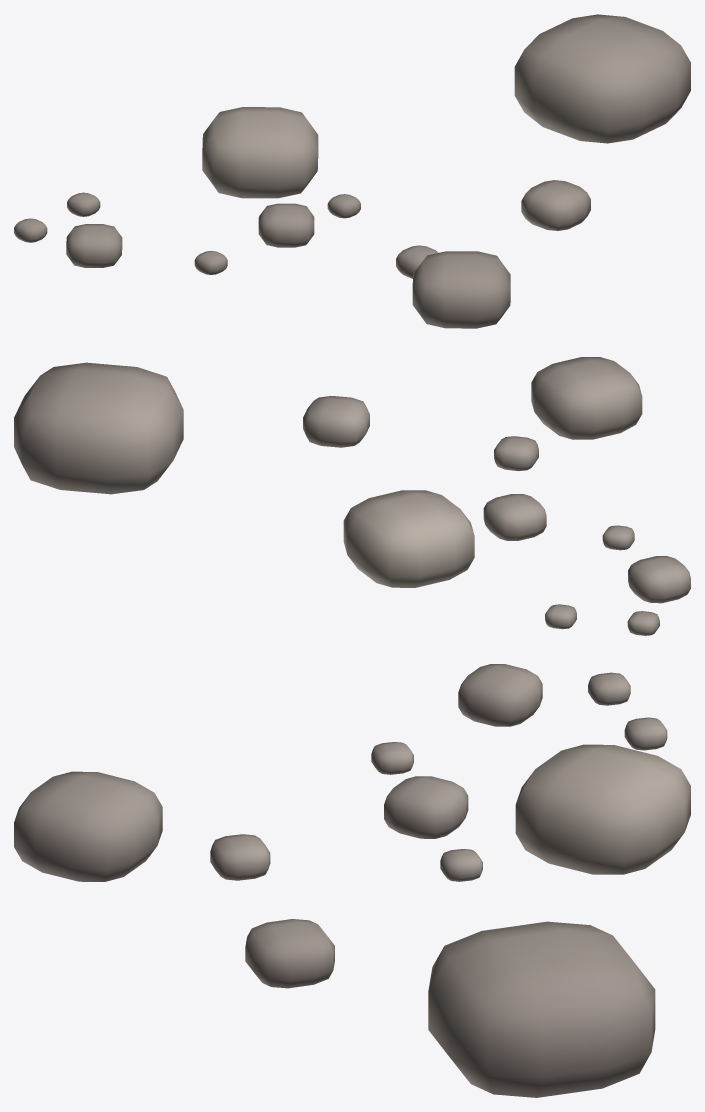
The model's file is Rocks_04.fbx.
3 renders of one model, top to bottom at view 1: azimuth 30°, elevation 25°; view 2: azimuth 150°, elevation 25°; view 3: azimuth 270°, elevation 25°, orthographic. The views are drawn at different scales.
Parts seen in each view (by area): view 1: Rocks_04; view 2: Rocks_04; view 3: Rocks_04.
Boxes of the visible parts, x1,y1,x2,y2 form: Rocks_04: (14,14,690,328); Rocks_04: (14,357,690,635); Rocks_04: (14,664,690,1097).
Bounding box in the file's own units: 350 × 46.9 × 234.
